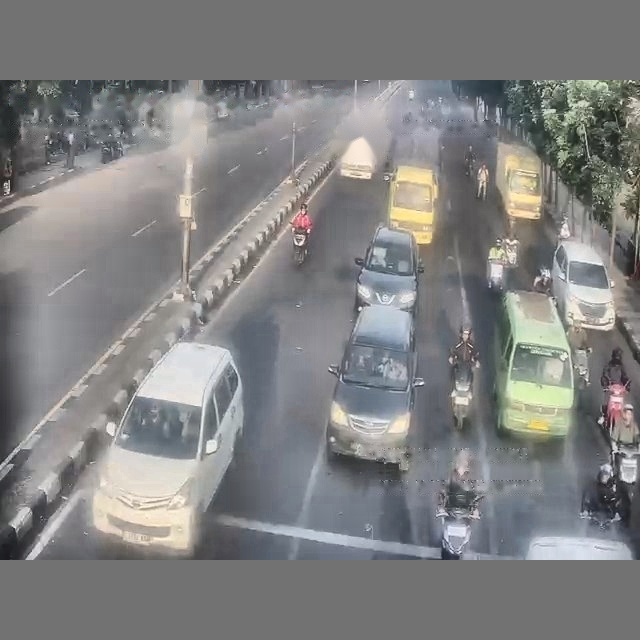Mobil: (92, 342, 243, 554), (326, 306, 423, 471), (354, 225, 423, 313), (551, 240, 615, 331), (525, 536, 633, 560)
Motor: (436, 496, 482, 559), (612, 443, 639, 520), (598, 383, 628, 436), (450, 361, 473, 429), (292, 227, 308, 265), (487, 258, 504, 292), (502, 239, 518, 267), (556, 215, 570, 245)
Truk: (495, 141, 542, 219), (339, 137, 376, 179)
